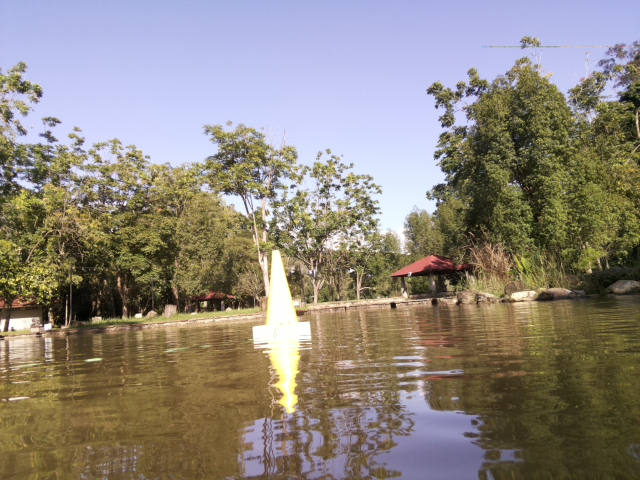checkpoint: (251, 249, 312, 343)
